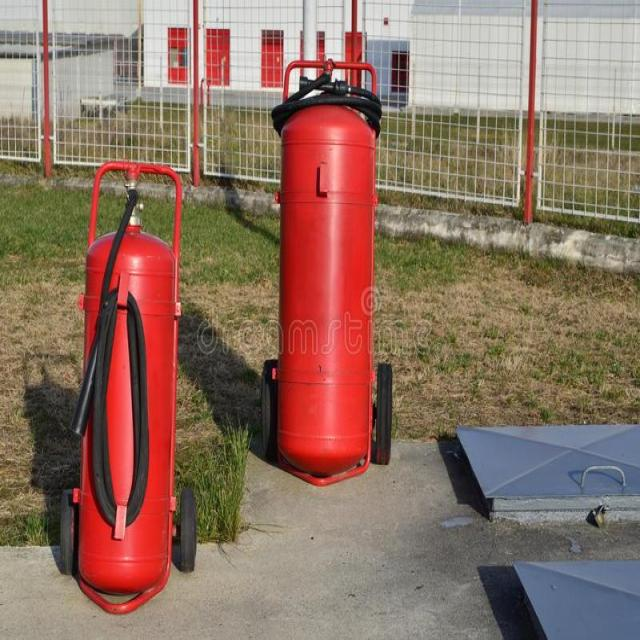fire_extinguisher: (68, 155, 186, 598), (264, 51, 380, 480)
